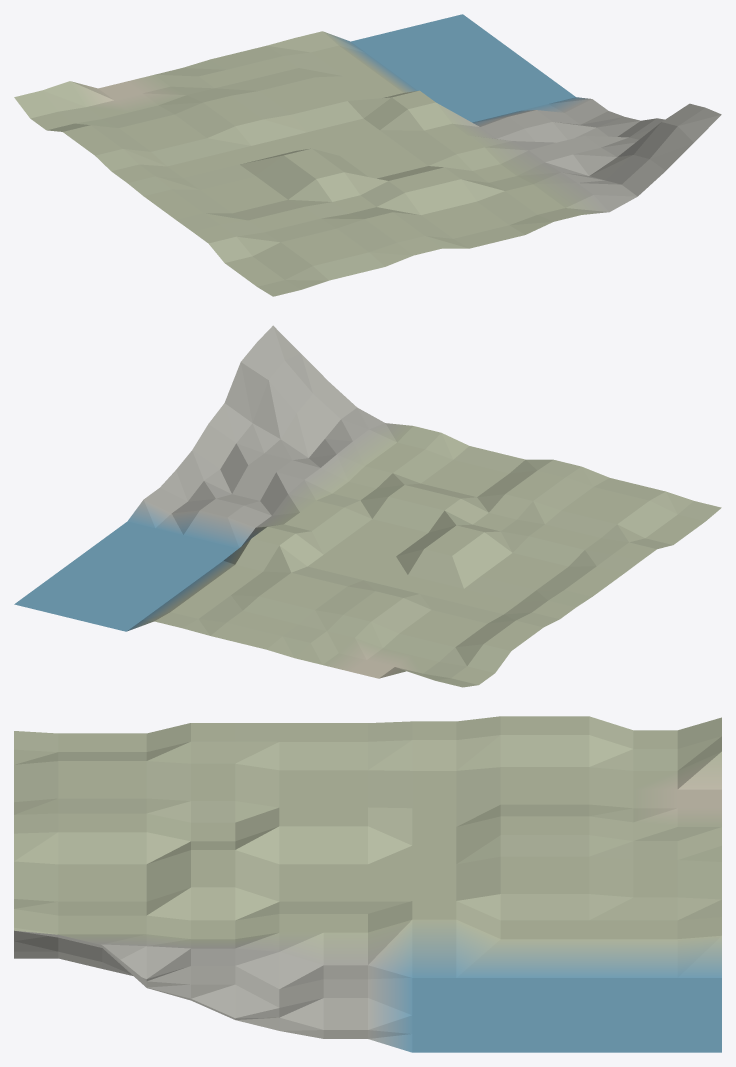
3 views of the same model, one above another, from view 1: azimuth 30°, elevation 25°; view 2: azimuth 150°, elevation 25°; view 3: azimuth 270°, elevation 25° (orthographic). The views are drawn at different scales.
Bounding box in the file's own units: 32 × 6.08 × 32.
